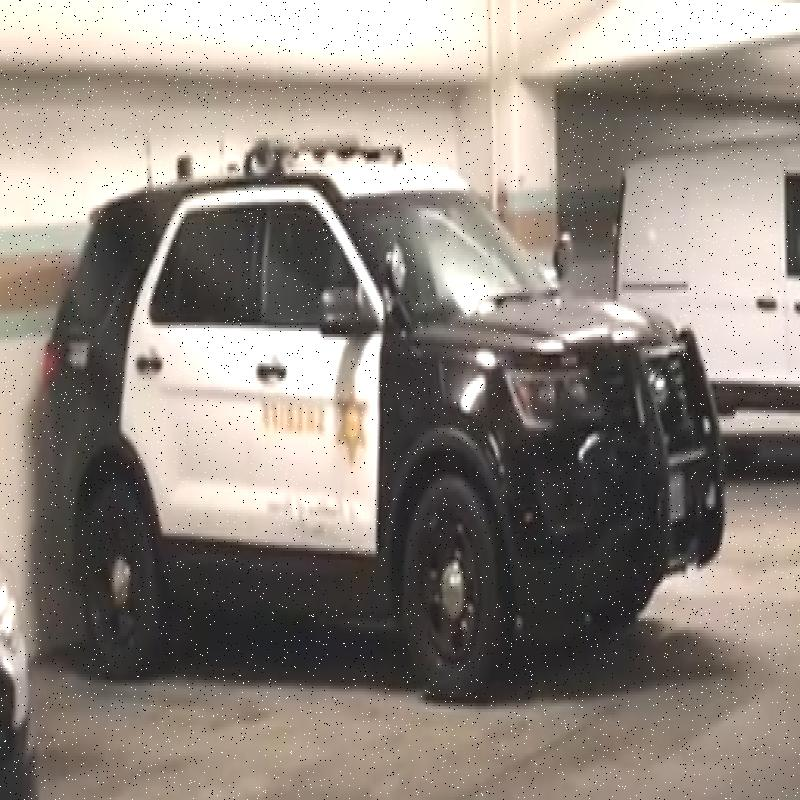AmbulanceSiren: (247, 100, 413, 188)
